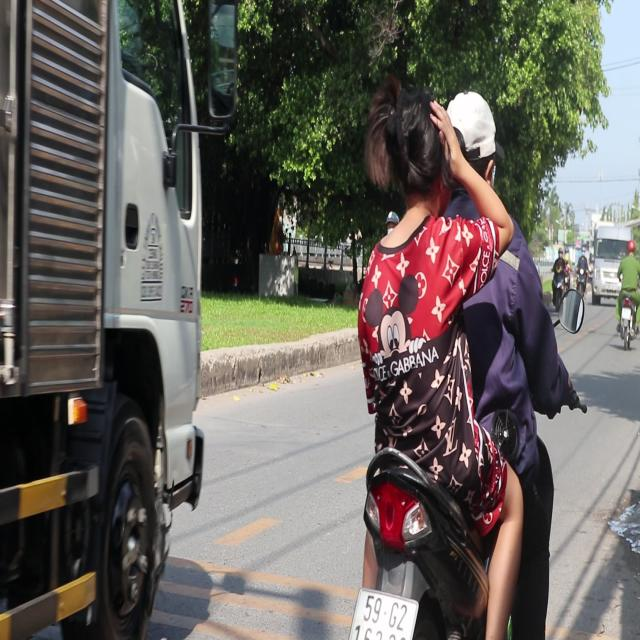licenseplate: (344, 83, 580, 639)
motorcyclist: (364, 86, 455, 214), (446, 90, 497, 184)
